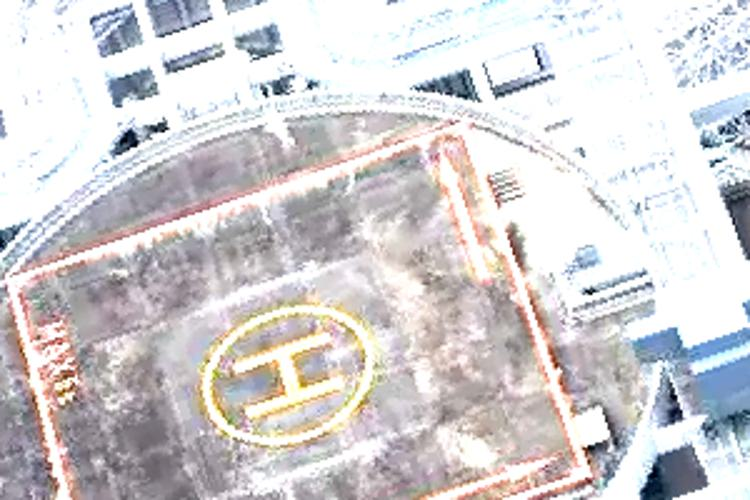Apron: (191, 296, 397, 464)
